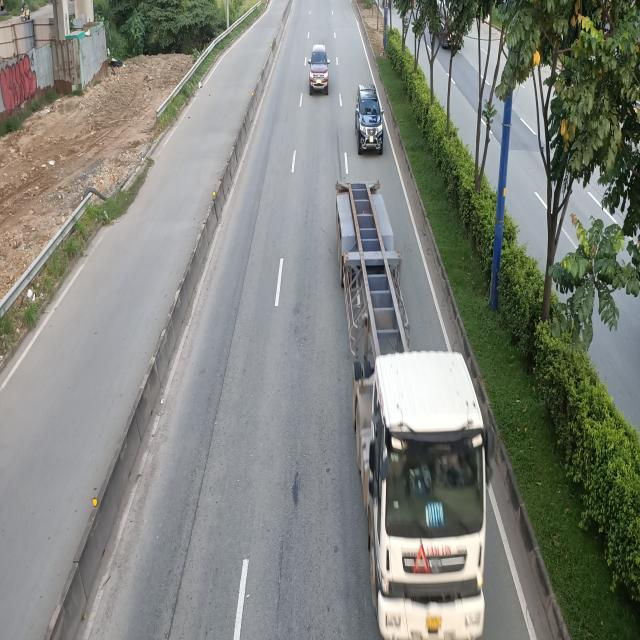car: (354, 85, 384, 155), (307, 44, 330, 95)
container: (341, 175, 493, 635)
